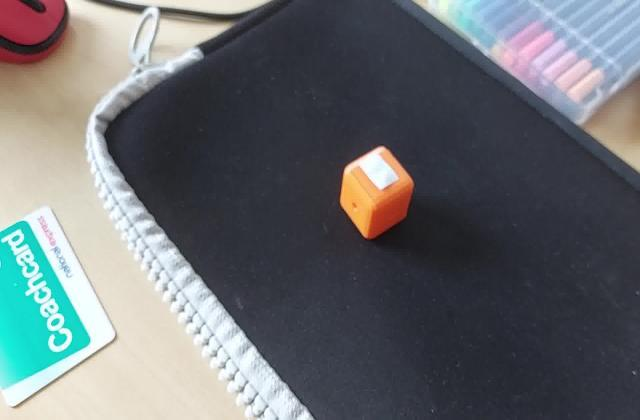sticker: (337, 144, 414, 241)
white: (362, 162, 402, 192)
